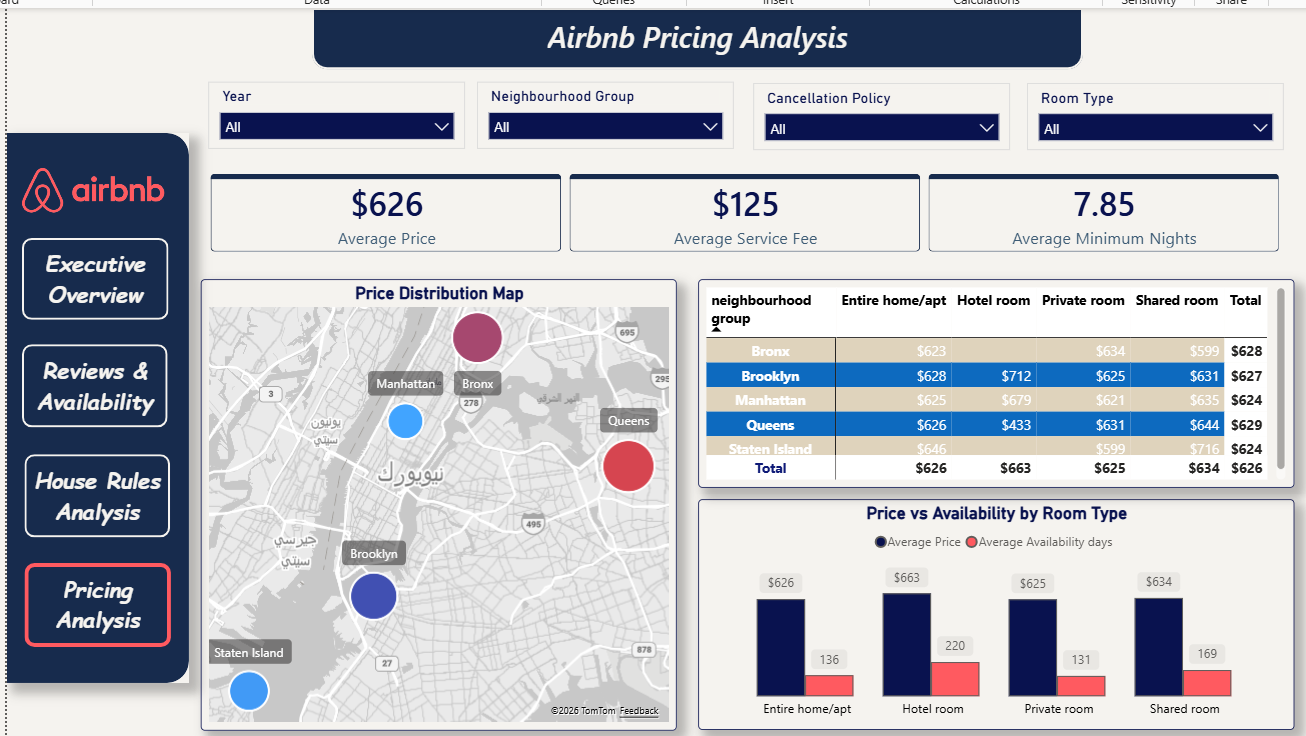

This screenshot's page, from the dashboard's own definition file:
{"tool":"powerbi","page":{"name":"Pricing Analysis","canvas":[1280,720],"ordinal":2},"visuals":[{"type":"slicer","fields":{"Values":["airbnb_cleaned.room type"]},"box":[998,72.6,251.6,65.8],"z":0,"group":"g2"},{"type":"group","id":"g1","title":"Group 1","box":[0,122.5,178,538],"z":0},{"type":"slicer","fields":{"Values":["airbnb_cleaned.cancellation_policy"]},"box":[730.5,72.6,251.6,65.8],"z":1000,"group":"g2"},{"type":"actionButton","box":[14.9,225.5,143.3,80],"z":1000},{"type":"slicer","fields":{"Values":["airbnb_cleaned.neighbourhood group"]},"box":[460,71.9,251.6,65.8],"z":2000,"group":"g2"},{"type":"actionButton","box":[17.5,542.5,143.3,82.2],"z":2000},{"type":"slicer","fields":{"Values":["Calendar.Year"]},"box":[197.1,71.9,251.6,65.8],"z":3000,"group":"g2"},{"type":"actionButton","box":[15,328.8,142.5,81.2],"z":3000},{"type":"actionButton","box":[17.5,436.2,142.5,81.2],"z":4000},{"type":"actionButton","box":[298.6,0,754.3,60],"z":5000},{"type":"shape","box":[0,122.5,178,538],"z":6000,"group":"g1"},{"type":"cardVisual","fields":{"Data":["Measures_table.Average Price","Measures_table.Average Service Fee","Measures_table.Average Minimum Nights"]},"box":[187.5,150,1071.2,100],"z":6000},{"type":"image","box":[14.4,147.5,139.6,63.2],"z":7000,"group":"g1"},{"type":"azureMap","title":"Price Distribution Map","fields":{"Category":["airbnb_cleaned.neighbourhood group"],"Size":["Measures_table.Average Price"]},"box":[190,265.7,465.7,441.4],"z":7000},{"type":"clusteredColumnChart","title":"Price vs Availability by Room Type","fields":{"Category":["airbnb_cleaned.room type"],"Y":["Measures_table.Average Price","Measures_table.Average Availability"]},"box":[676.2,480.6,582.9,225.7],"z":8000},{"type":"pivotTable","fields":{"Columns":["airbnb_cleaned.room type"],"Rows":["airbnb_cleaned.neighbourhood group"],"Values":["Measures_table.Average Price"]},"box":[675.7,265.7,582.9,204.3],"z":9000},{"type":"group","id":"g2","title":"Group 2","box":[197.1,71.9,1052.5,66.2],"z":10000}]}

Visuals, with their boxes on the page's 1280x720 design canvas (x1, y1, x2, y2). These are canvas units, not pixel positions in the 1306x736 screenshot, which may show the page scaled, cropped or inside an application window:
slicer - airbnb_cleaned.room type: select_region(998, 73, 1250, 138)
"Group 1" group: select_region(0, 122, 178, 660)
slicer - airbnb_cleaned.cancellation_policy: select_region(730, 73, 982, 138)
actionButton: select_region(15, 226, 158, 306)
slicer - airbnb_cleaned.neighbourhood group: select_region(460, 72, 712, 138)
actionButton: select_region(18, 542, 161, 625)
slicer - Calendar.Year: select_region(197, 72, 449, 138)
actionButton: select_region(15, 329, 158, 410)
actionButton: select_region(18, 436, 160, 517)
actionButton: select_region(299, 0, 1053, 60)
shape: select_region(0, 122, 178, 660)
cardVisual - Measures_table.Average Price x Measures_table.Average Service Fee: select_region(188, 150, 1259, 250)
image: select_region(14, 148, 154, 211)
"Price Distribution Map" azureMap: select_region(190, 266, 656, 707)
"Price vs Availability by Room Type" clusteredColumnChart: select_region(676, 481, 1259, 706)
pivotTable - airbnb_cleaned.room type x airbnb_cleaned.neighbourhood group: select_region(676, 266, 1259, 470)
"Group 2" group: select_region(197, 72, 1250, 138)
